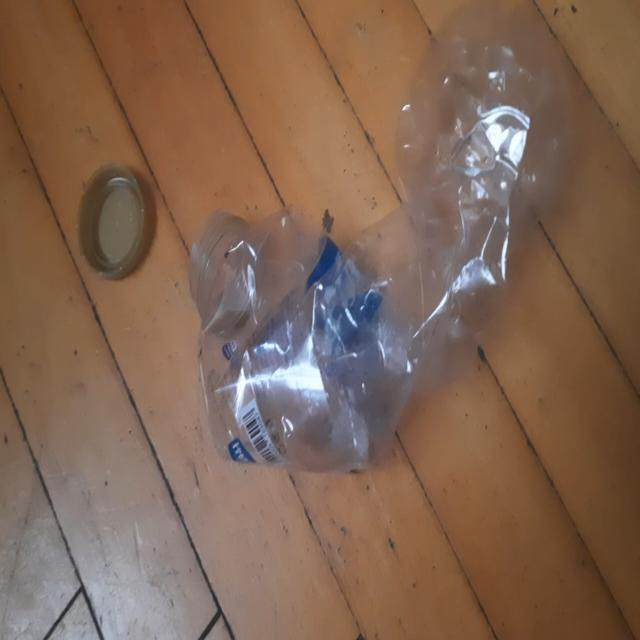Plastic: (214, 240, 424, 473), (78, 163, 158, 283)
